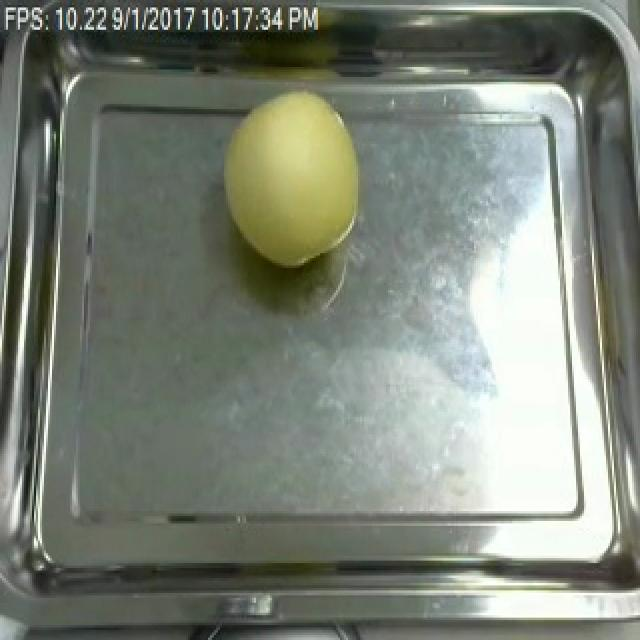Fruit: (214, 82, 370, 273)
